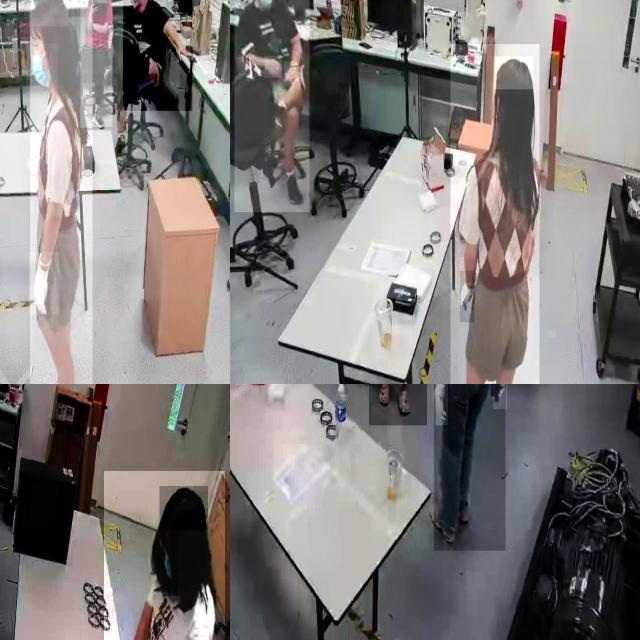face_mask: (26, 43, 58, 96), (162, 530, 178, 596), (254, 0, 275, 8)
hand_glove: (29, 252, 60, 316), (460, 271, 475, 323), (435, 384, 448, 426), (492, 384, 507, 410)
hand_noglove: (264, 56, 282, 78), (284, 61, 300, 82), (176, 42, 192, 62), (89, 0, 99, 14)
head_nohelmet: (160, 486, 208, 531), (494, 56, 534, 90), (28, 0, 69, 27)
person: (450, 44, 539, 384), (30, 0, 93, 384), (104, 471, 225, 640), (234, 0, 309, 213), (434, 384, 506, 551), (123, 0, 193, 112), (80, 0, 113, 127)
shoes: (427, 496, 462, 552)
